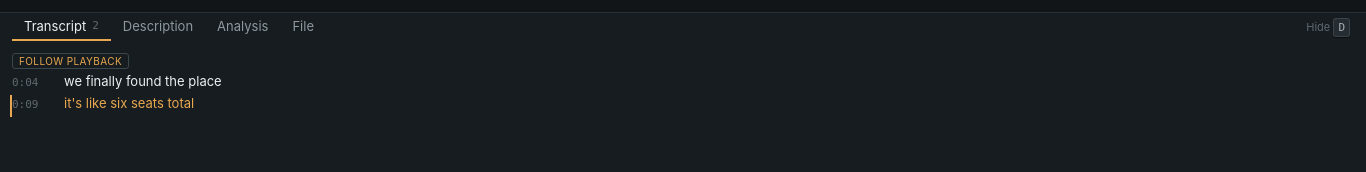
it: following playback through the transcript › re-establishes following when a segment is clicked
The image size is (1366, 172).
Click the text "we finally found the place".
click(143, 81)  # box [64, 73, 222, 89]
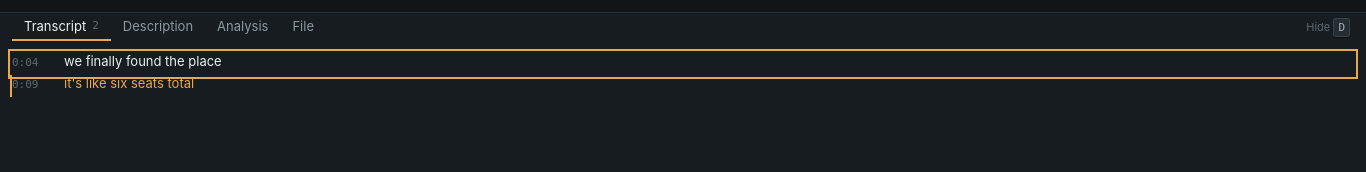
Result: the button "Follow playback" is gone
